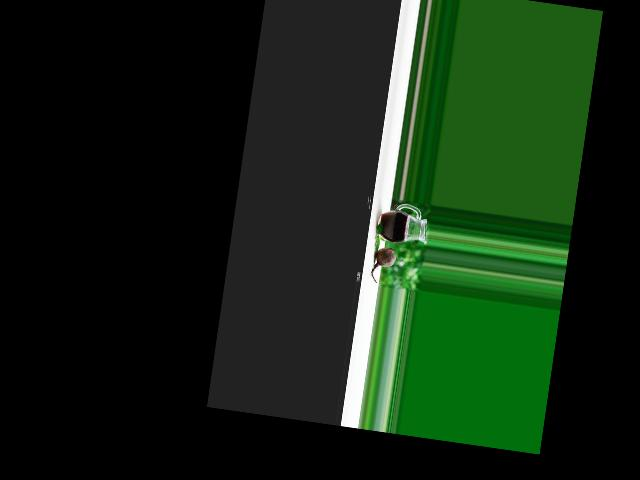beet: (369, 245, 396, 284)
